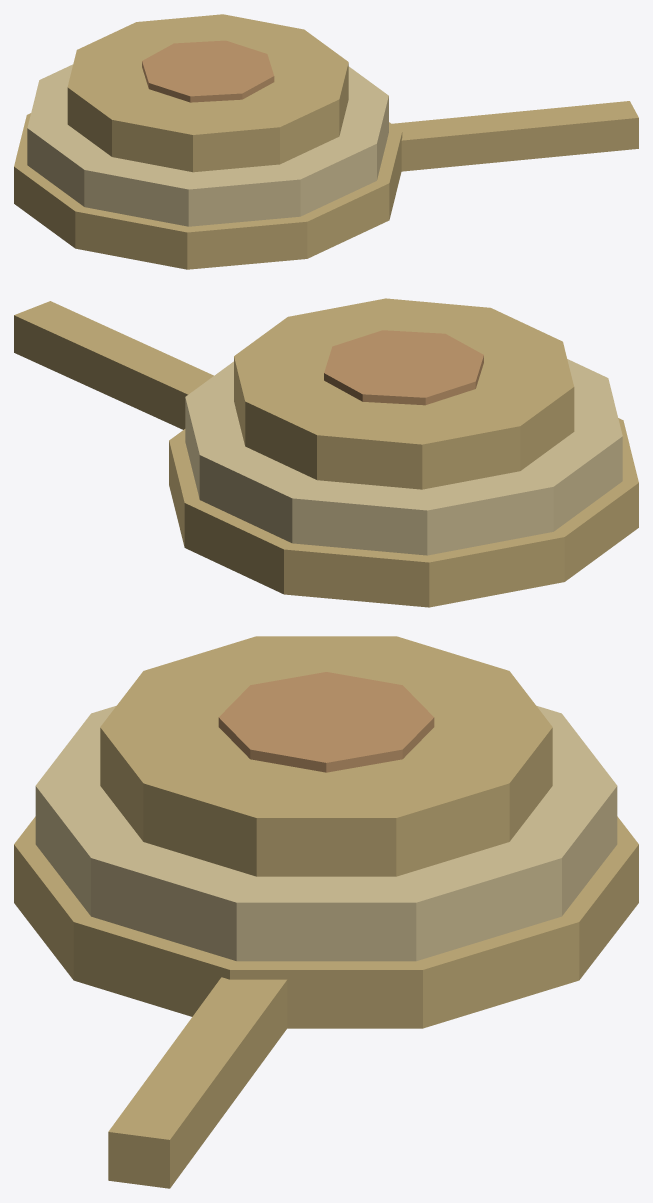
Rendered from Rope_Coil.glb.
3 views of the same model, one above another, from view 1: azimuth 30°, elevation 25°; view 2: azimuth 150°, elevation 25°; view 3: azimuth 270°, elevation 25° (orthographic). The views are drawn at different scales.
Visible parts, largest first — view 1: Rope_Coil; view 2: Rope_Coil; view 3: Rope_Coil.
Boxes of the visible parts, x1=… form: Rope_Coil: x1=14, y1=14, x2=638, y2=269; Rope_Coil: x1=14, y1=298, x2=638, y2=607; Rope_Coil: x1=14, y1=636, x2=638, y2=1188.
Bounding box in the file's own units: 0.9035 × 0.19 × 0.58.
1 material, 1 textured.
